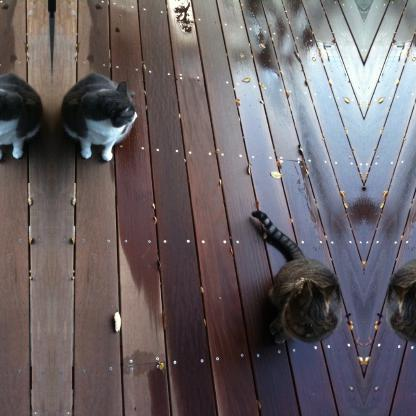Cat: (252, 209, 340, 343), (58, 72, 138, 158), (0, 71, 47, 159), (388, 209, 415, 344)
